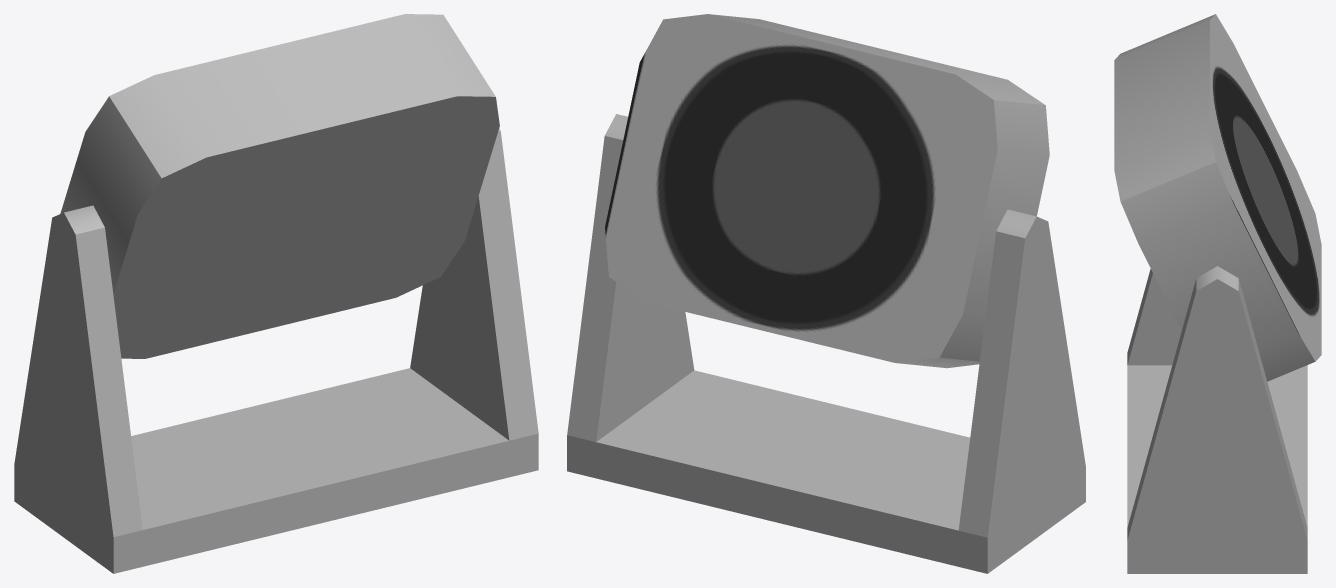
File: Hyde_Ground_Speaker_1.fbx
3 views of the same model, side by side, from view 1: azimuth 30°, elevation 25°; view 2: azimuth 150°, elevation 25°; view 3: azimuth 270°, elevation 25° (orthographic). The views are drawn at different scales.
Visible parts, largest first — view 1: Hyde_Ground_Speaker_1; view 2: Hyde_Ground_Speaker_1; view 3: Hyde_Ground_Speaker_1.
Boxes of the visible parts, x1,y1,x2,y2 form: Hyde_Ground_Speaker_1: [14, 14, 538, 573]; Hyde_Ground_Speaker_1: [567, 14, 1085, 573]; Hyde_Ground_Speaker_1: [1114, 14, 1321, 573].
Bounding box in the file's own units: 2.03 × 2.03 × 0.9444.
